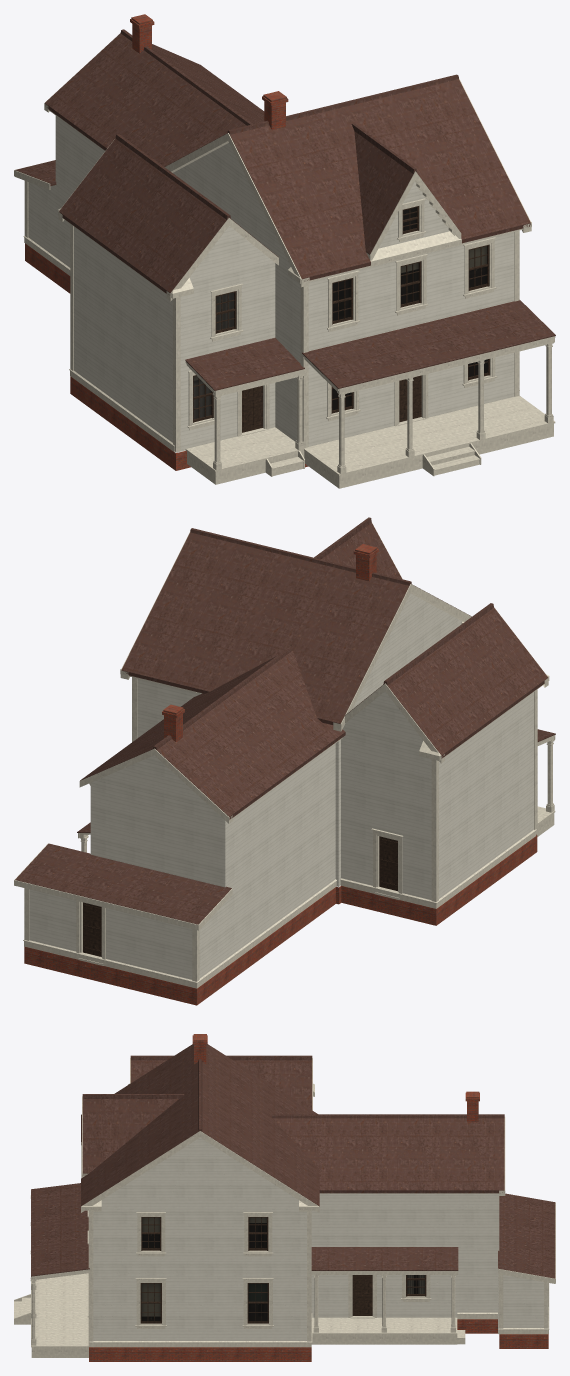
The model's file is house-91-93.glb.
3 views of the same model, one above another, from view 1: azimuth 30°, elevation 25°; view 2: azimuth 150°, elevation 25°; view 3: azimuth 270°, elevation 25° (orthographic). The views are drawn at different scales.
Visible parts, largest first — view 1: House9193; view 2: House9193; view 3: House9193.
Part boxes in pixels (box(x1,y1,x2,y2)): House9193: box(14, 14, 555, 488); House9193: box(14, 517, 555, 1005); House9193: box(14, 1034, 555, 1361).
Size of the model in its own units: 11.67 by 10.5 by 20.25.
7 materials, 6 textured.
